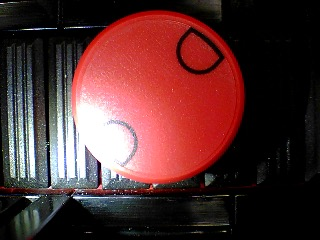MIPO2: (71, 10, 245, 184)
